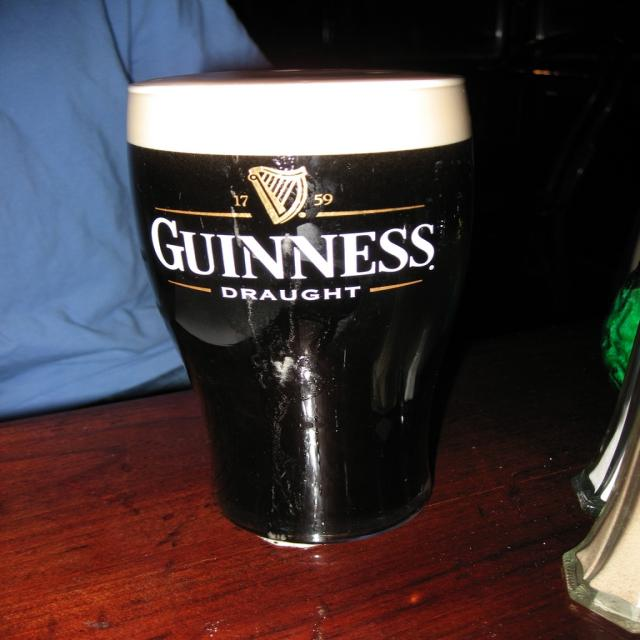guiness: (150, 166, 442, 283)
